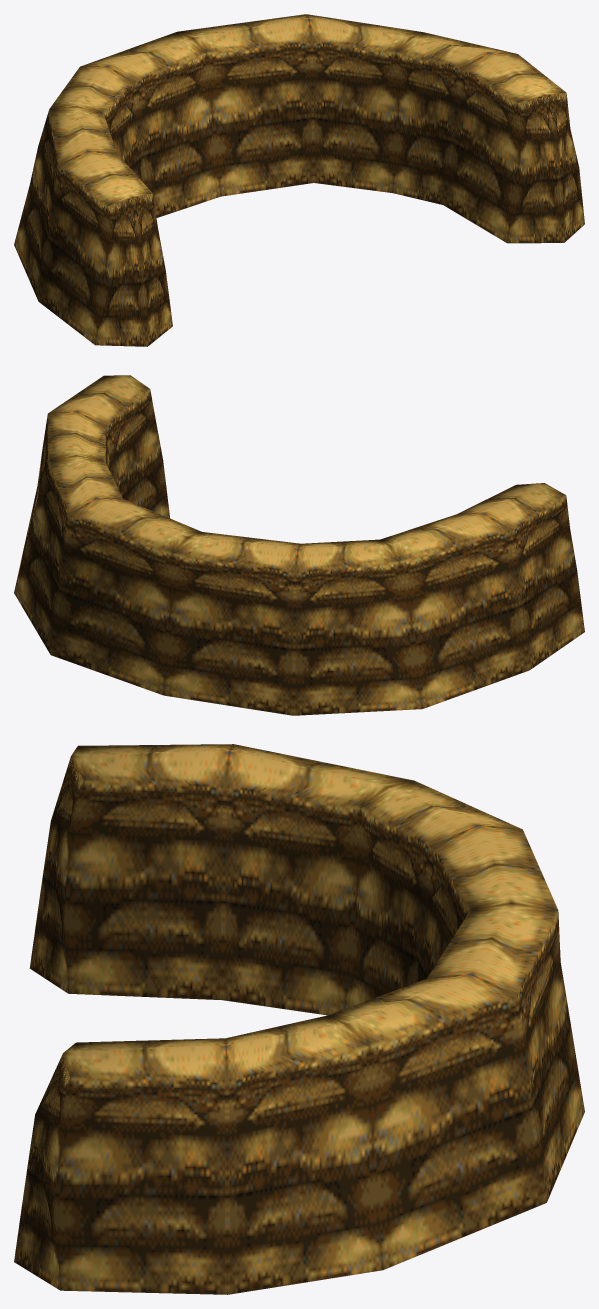
The model's file is SandbagRing.FBX.
3 renders of one model, top to bottom at view 1: azimuth 30°, elevation 25°; view 2: azimuth 150°, elevation 25°; view 3: azimuth 270°, elevation 25°, orthographic. The views are drawn at different scales.
Visible parts, largest first — view 1: 1; view 2: 1; view 3: 1.
Part boxes in pixels (left/top/right/bottom): 1: left=14, top=14, right=584, bottom=346; 1: left=14, top=375, right=584, bottom=715; 1: left=14, top=744, right=584, bottom=1294.
Size of the model in its own units: 2.91 by 0.8279 by 1.92.
